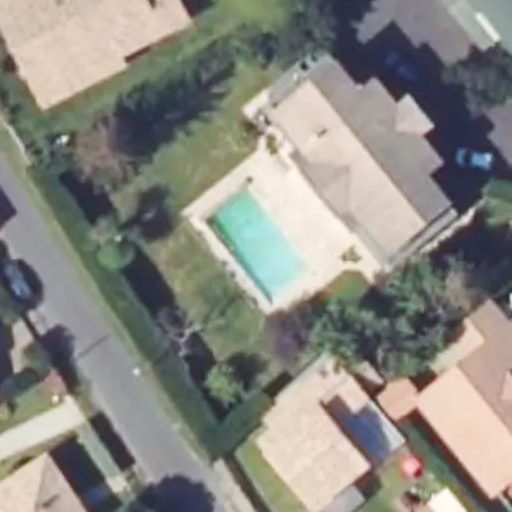pool: (193, 180, 322, 304)
